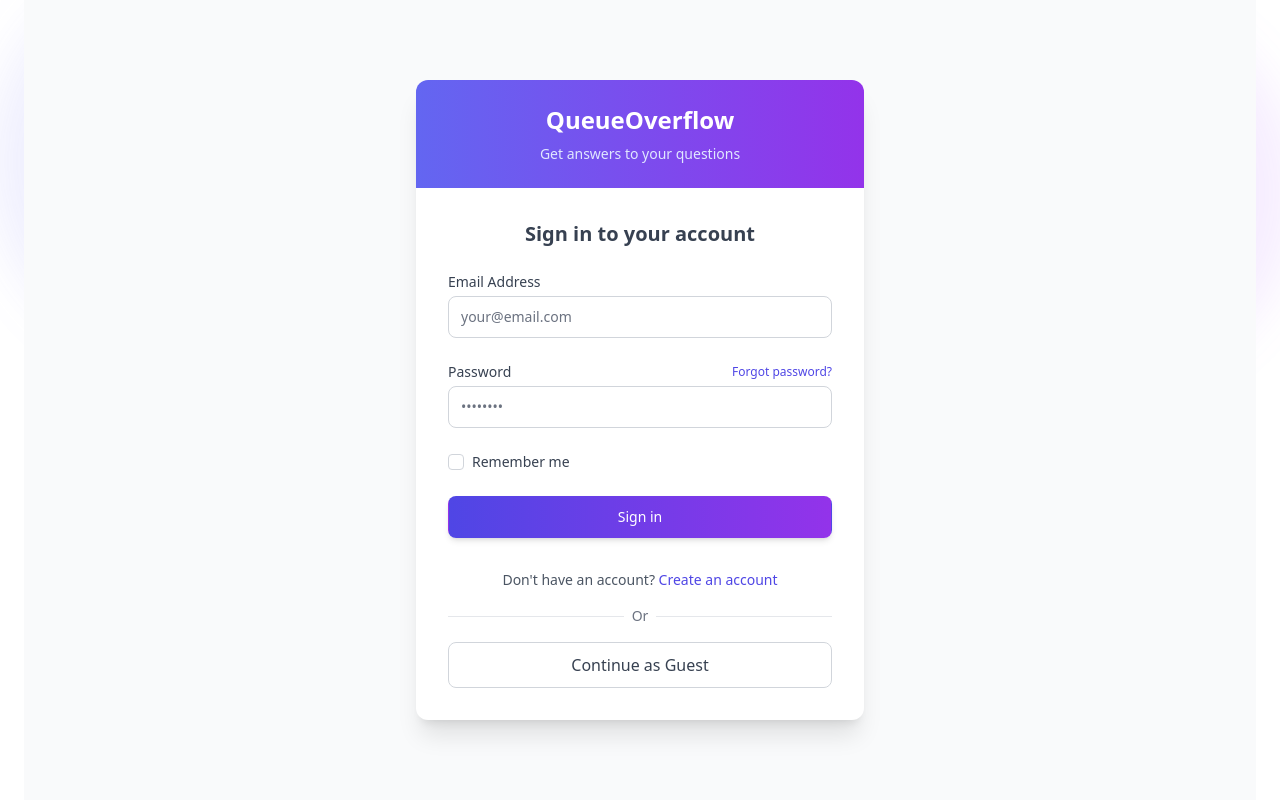
Login Test › should validate required fields
Click the submit button at (640, 517), box [448, 496, 832, 538]
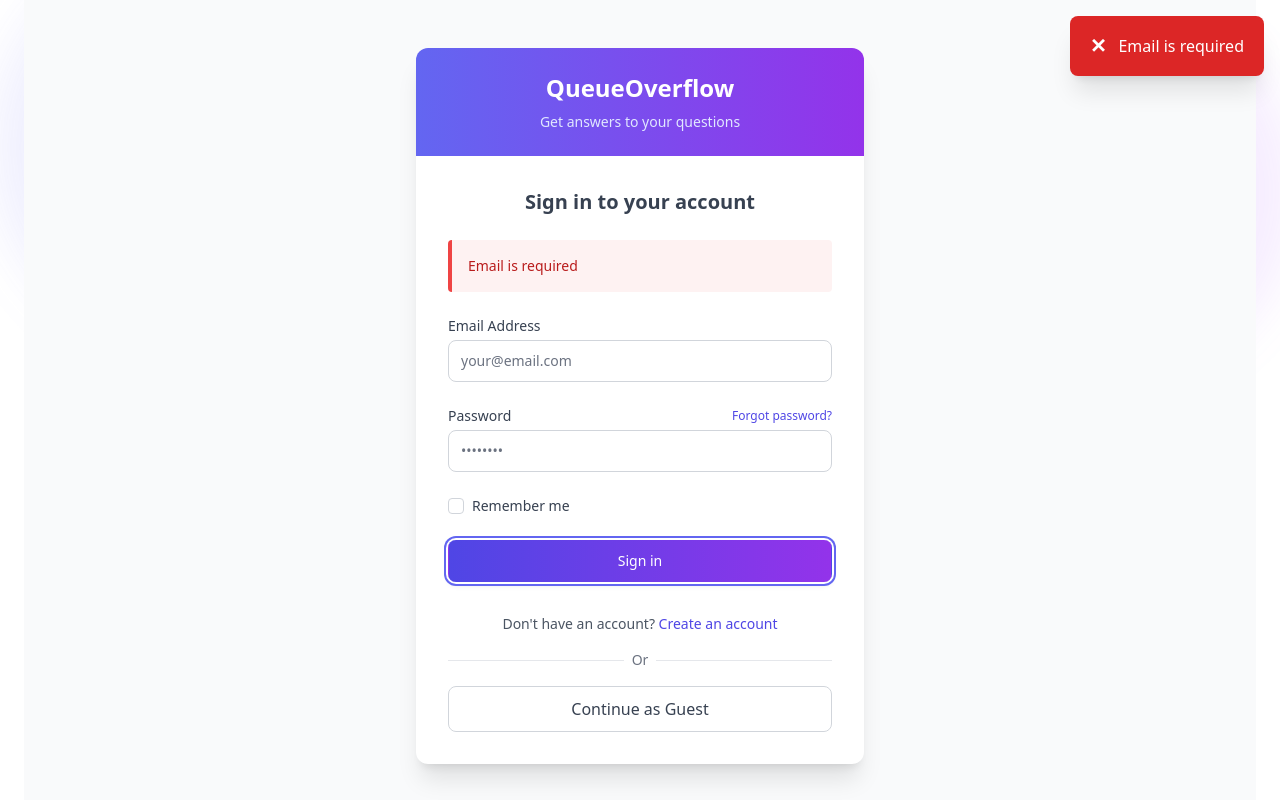
Result: the text "Email is required" below "Sign in to your account" is shown at [468, 256, 578, 275]
Type "kolin@gmail.com" into the field with id "email" at (640, 361), box [448, 340, 832, 382]
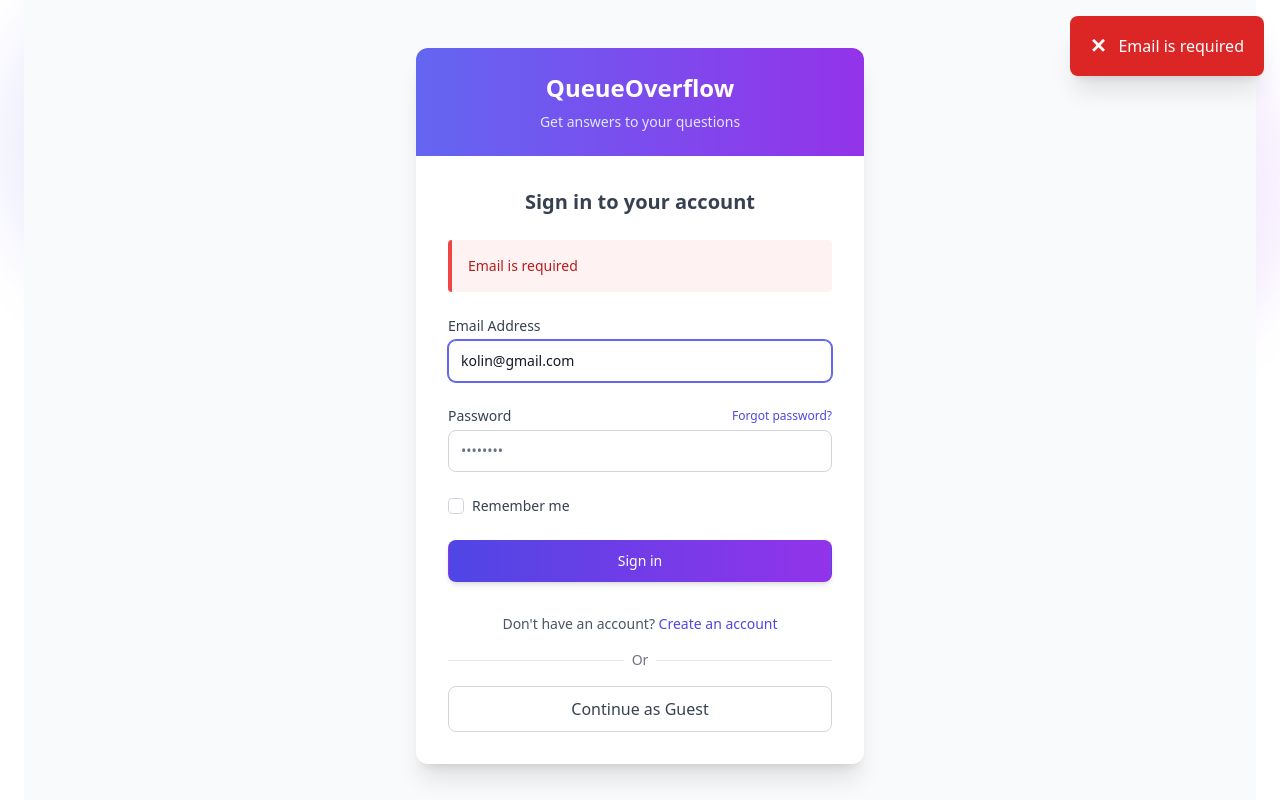
Click the submit button at (640, 561), box [448, 540, 832, 582]
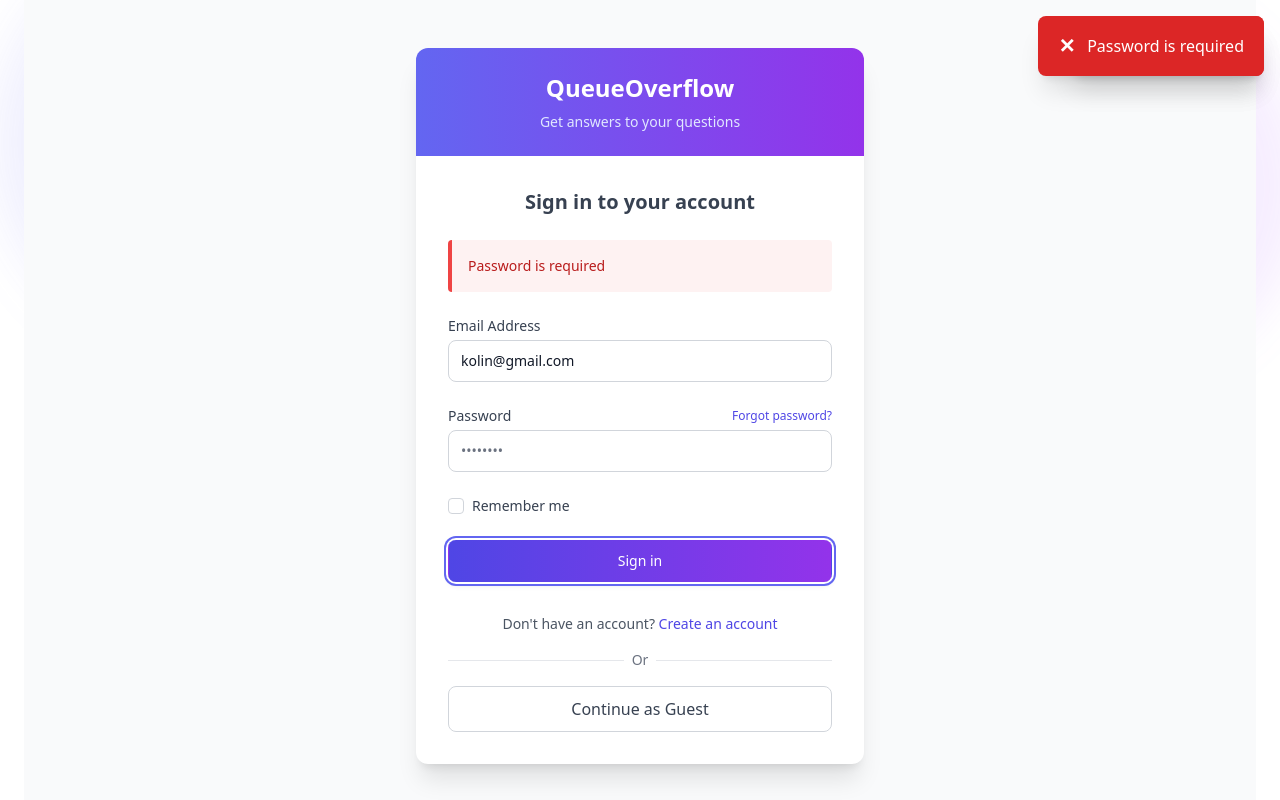
Result: the text "Password is required" below "Sign in to your account" is shown at [468, 256, 605, 275]
